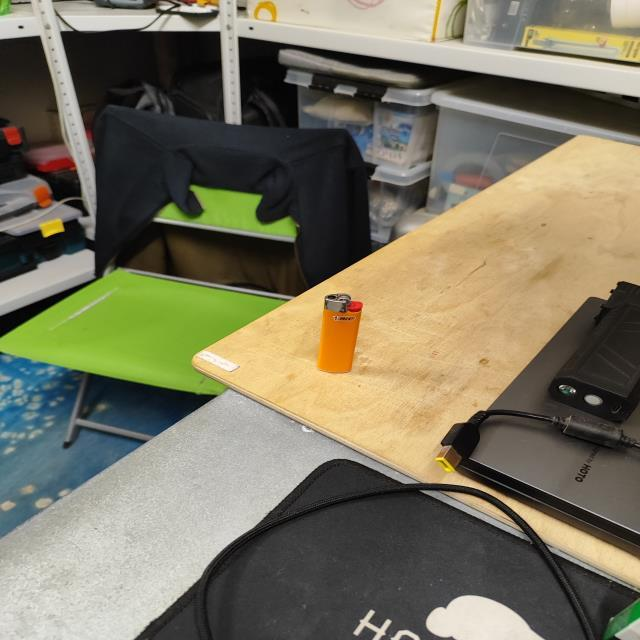lighter: (317, 293, 361, 372)
